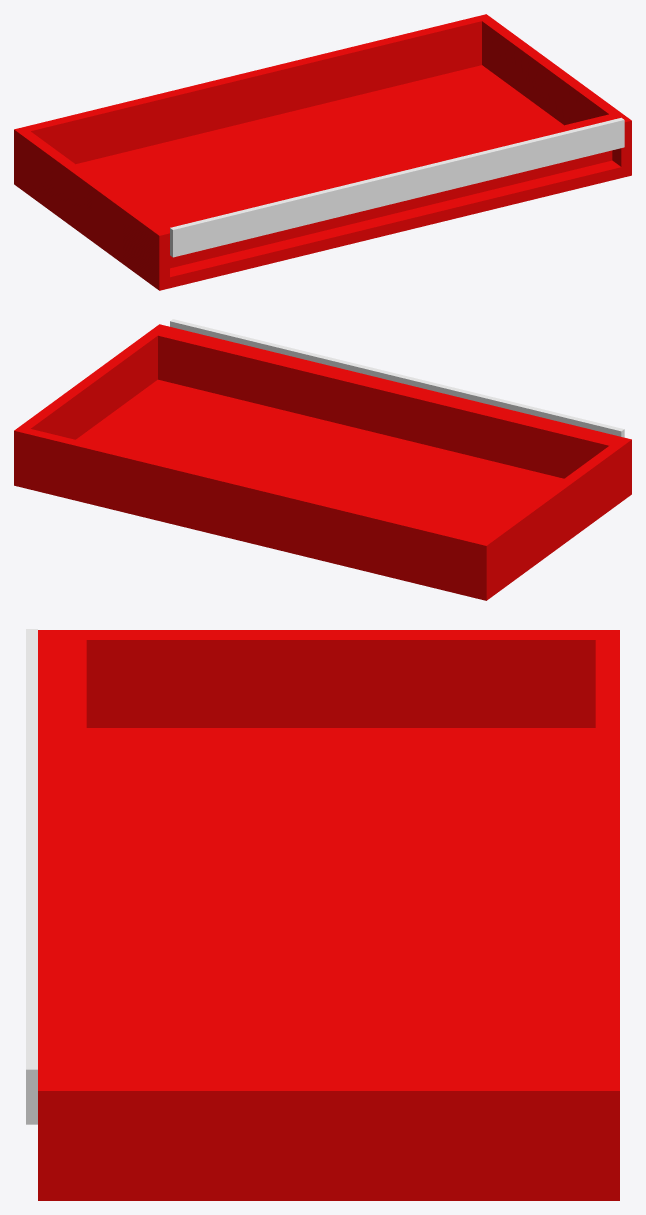
File: tbd3.glb
3 renders of one model, top to bottom at view 1: azimuth 30°, elevation 25°; view 2: azimuth 150°, elevation 25°; view 3: azimuth 270°, elevation 25°, orthographic. The views are drawn at different scales.
Visible parts, largest first — view 1: Body52_3_5, Body65_11_6; view 2: Body52_3_5, Body65_11_6; view 3: Body52_3_5, Body65_11_6.
Part boxes in pixels (x1,y1,x2,y2): Body52_3_5: [14, 14, 631, 290]; Body65_11_6: [170, 117, 624, 257]; Body52_3_5: [14, 324, 631, 600]; Body65_11_6: [170, 319, 624, 437]; Body52_3_5: [38, 630, 619, 1200]; Body65_11_6: [26, 629, 37, 1124].
Bounding box in the file's own units: 0.45 × 0.055 × 0.245.
